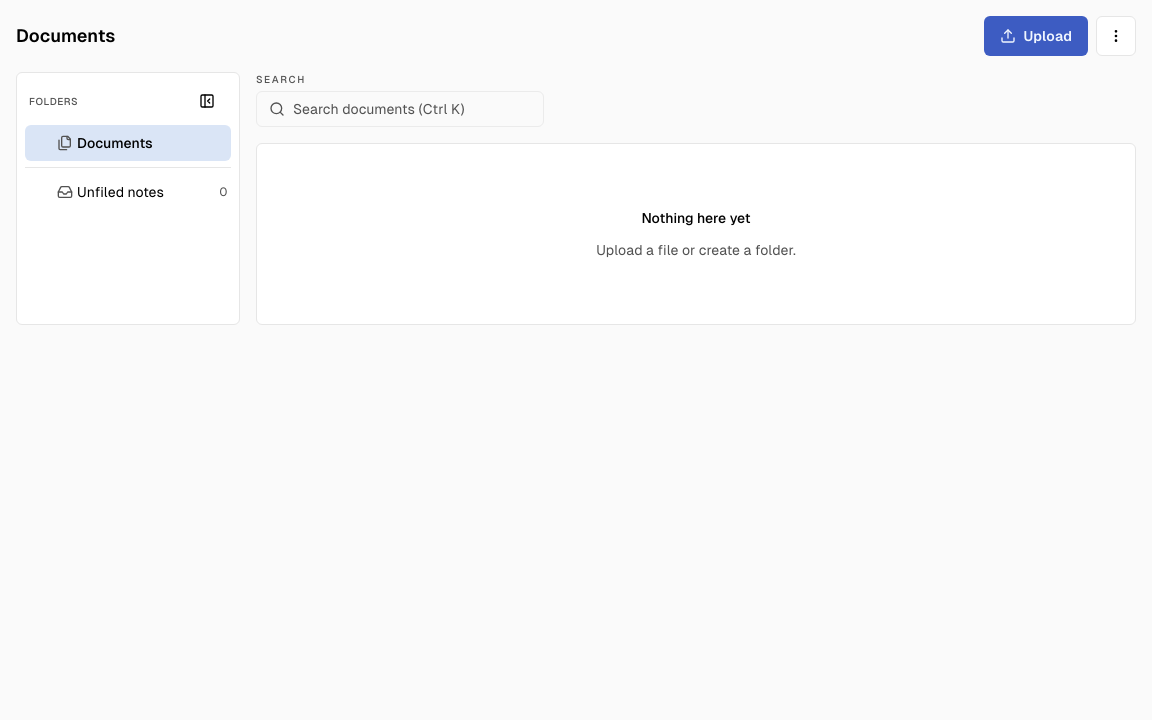
DocumentsPanel › search overlay › renders \x02/\x03 snippet markers as <mark> text, never as injected HTML
Click the field labelled "Search" at x=414, y=109, box top-left (285, 89), bottom-right (543, 129)
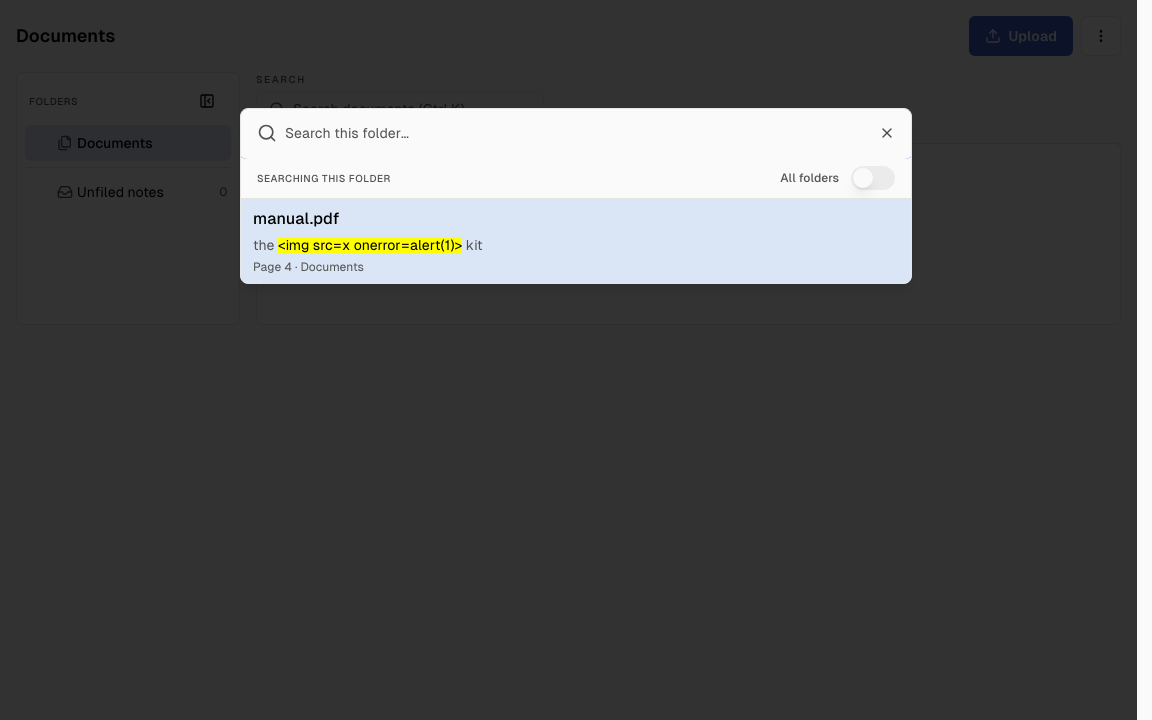
expect the text "<img src=x onerror=alert(1)>" is shown: met, box top-left (278, 237), bottom-right (462, 253)
